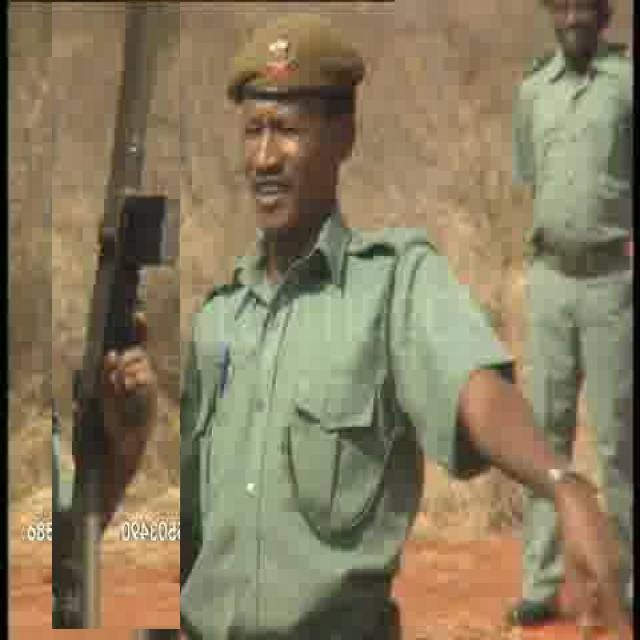poacher: (181, 7, 416, 606), (498, 1, 640, 295)
weapon: (52, 2, 180, 629)
